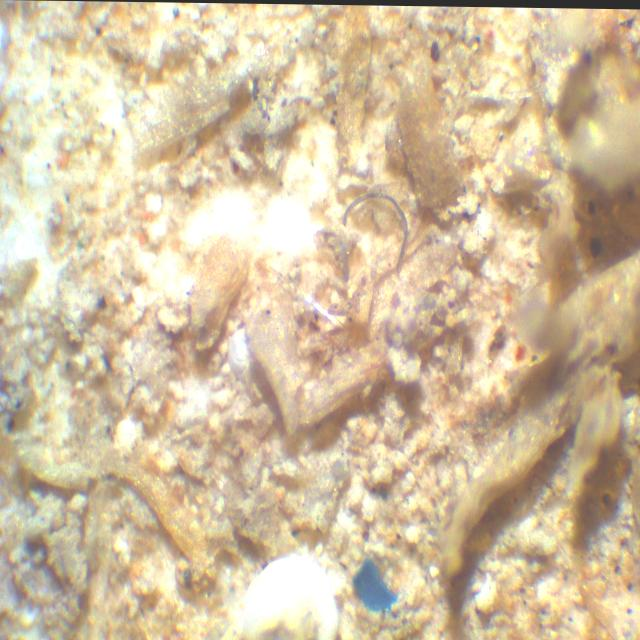microplastic: (340, 191, 410, 264), (355, 558, 397, 612)
